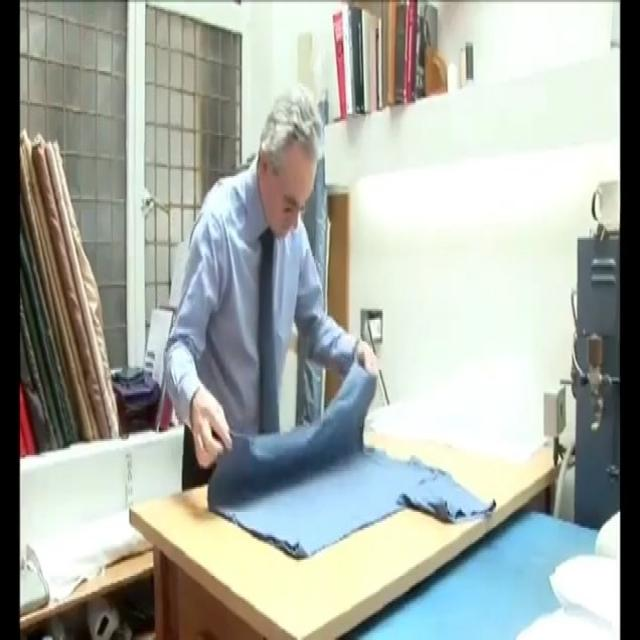Shirt: (163, 152, 359, 438)
